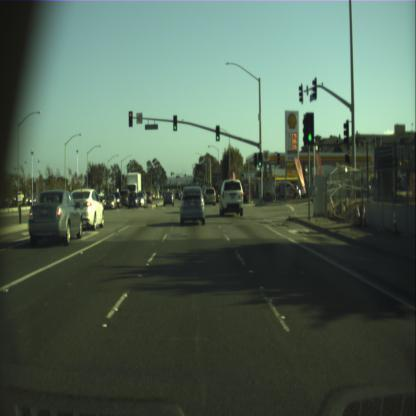Green: (306, 113, 314, 144), (216, 124, 219, 140), (258, 152, 261, 166), (174, 115, 176, 130)
RedLeft: (128, 111, 132, 126)
